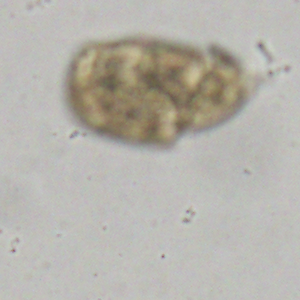Fasciola_hepatica_egg: (63, 32, 262, 150)
